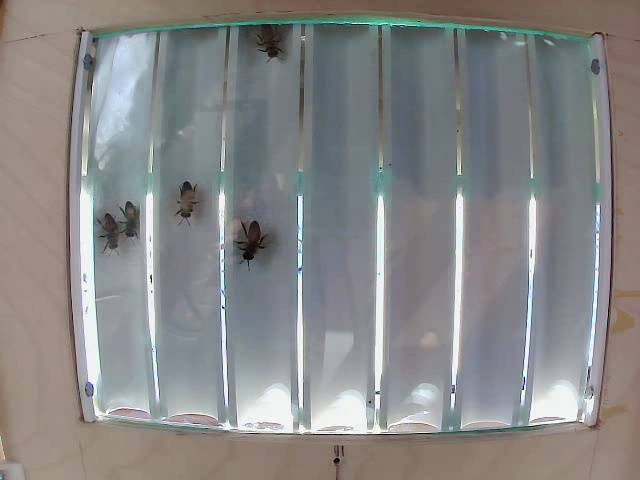bee: (234, 217, 277, 273), (108, 196, 161, 235), (177, 193, 220, 233), (93, 209, 135, 246), (253, 32, 290, 67)
